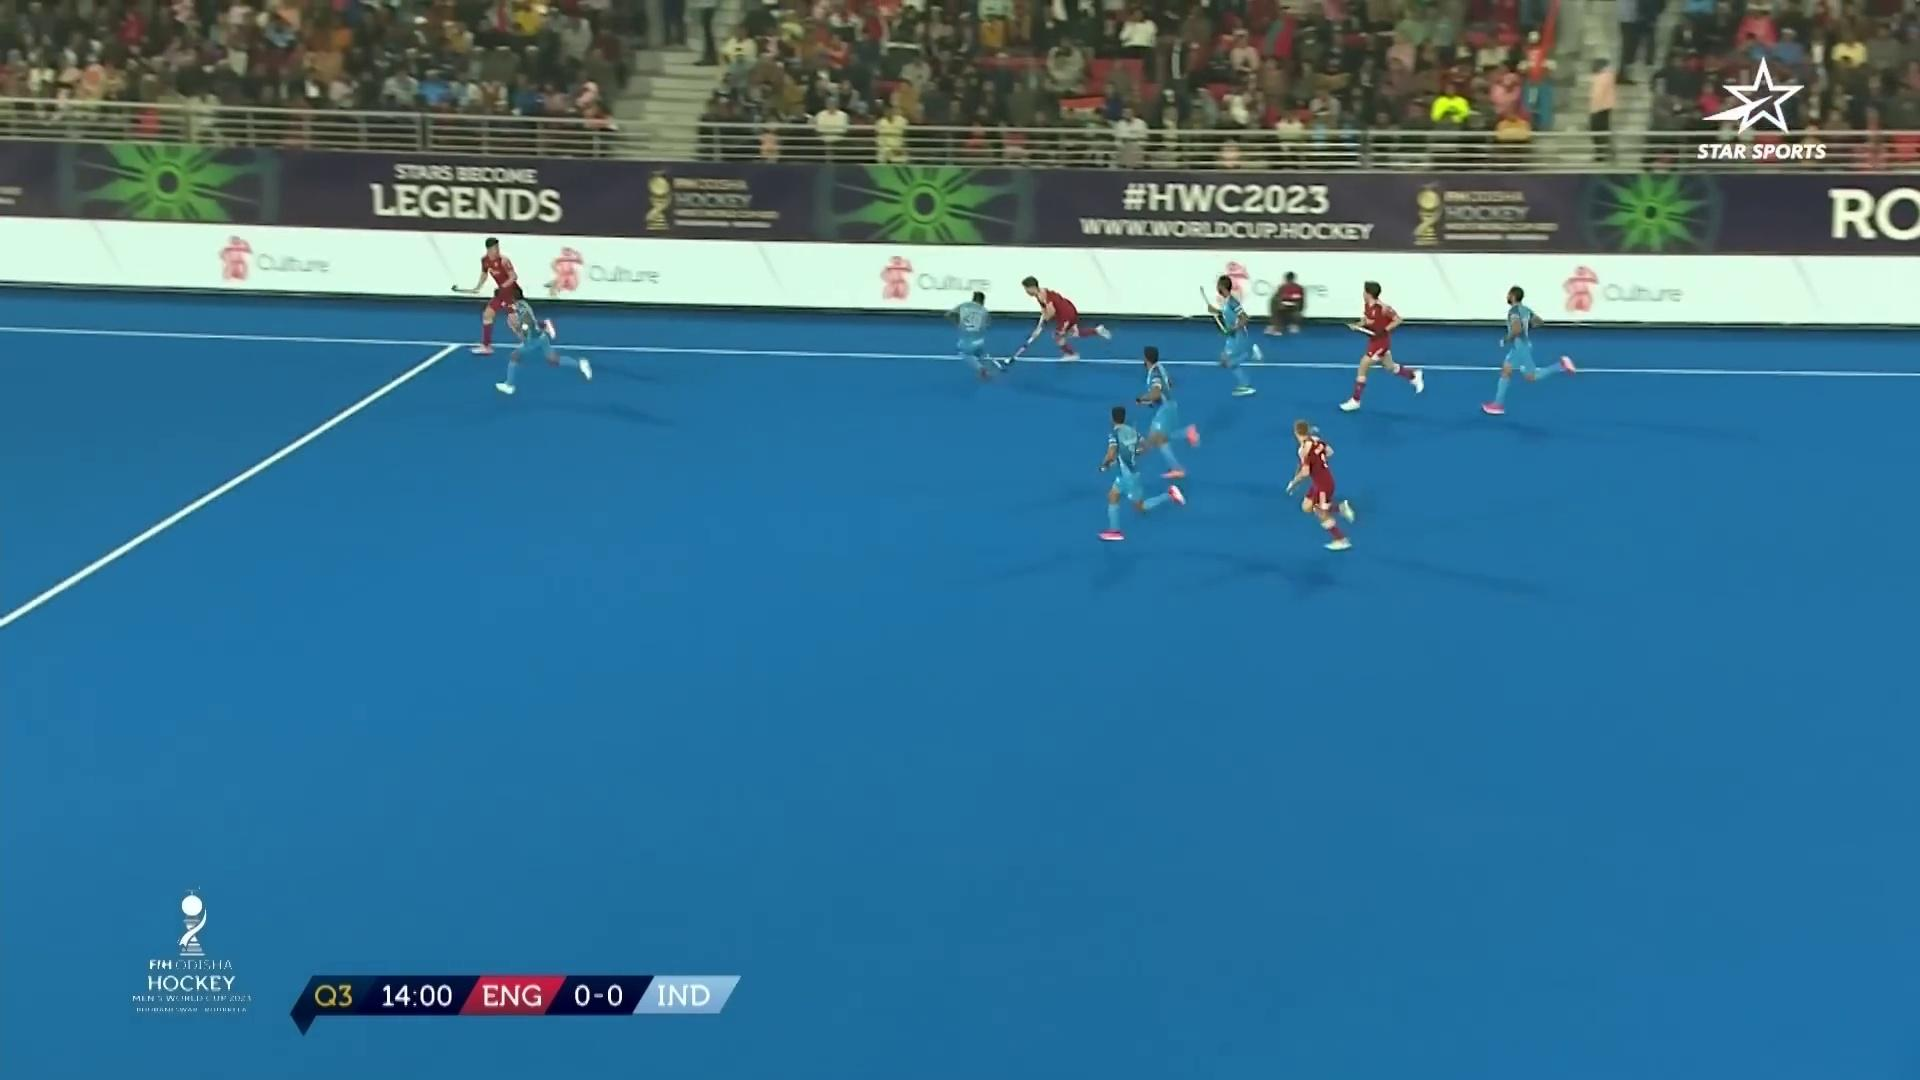ball: (1004, 357, 1010, 364)
